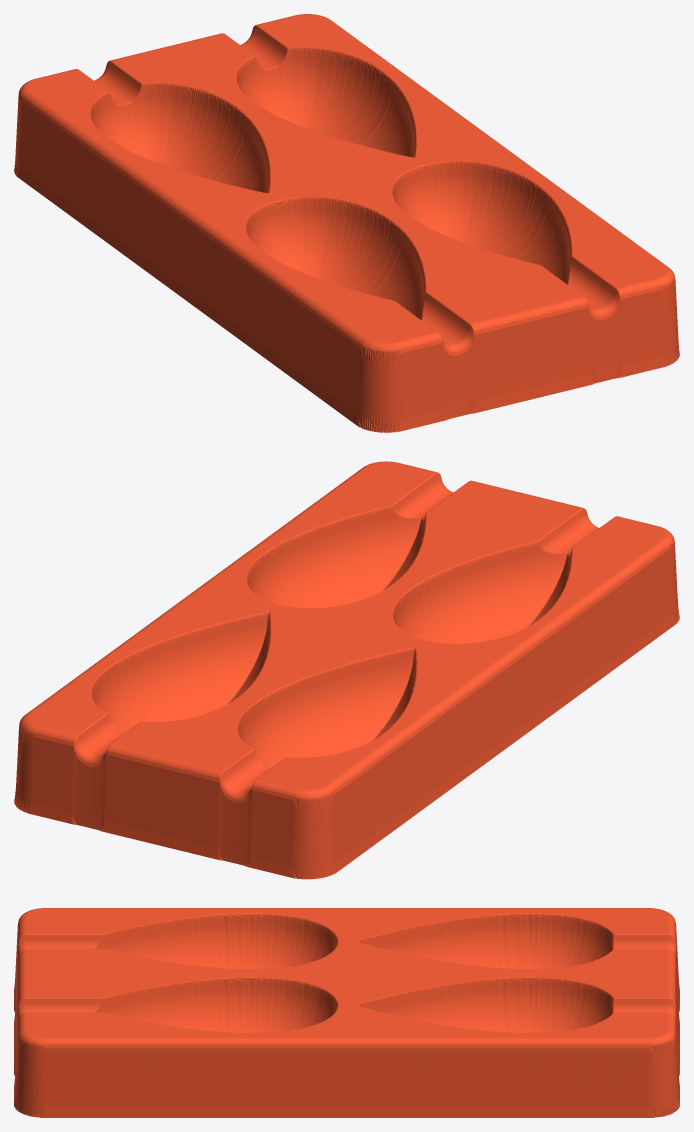
Rendered from mold.glb.
The picture shows the model from 3 angles, top to bottom: view 1: azimuth 30°, elevation 25°; view 2: azimuth 150°, elevation 25°; view 3: azimuth 270°, elevation 25°; orthographic projection. The views are drawn at different scales.
Parts seen in each view (by area): view 1: geometry_0; view 2: geometry_0; view 3: geometry_0.
Boxes of the visible parts, box(x1,y1,x2,y2) form: geometry_0: box(14, 14, 679, 432); geometry_0: box(14, 461, 679, 879); geometry_0: box(14, 908, 679, 1117).
Bounding box in the file's own units: 0.0973 × 0.0245 × 0.1968.
